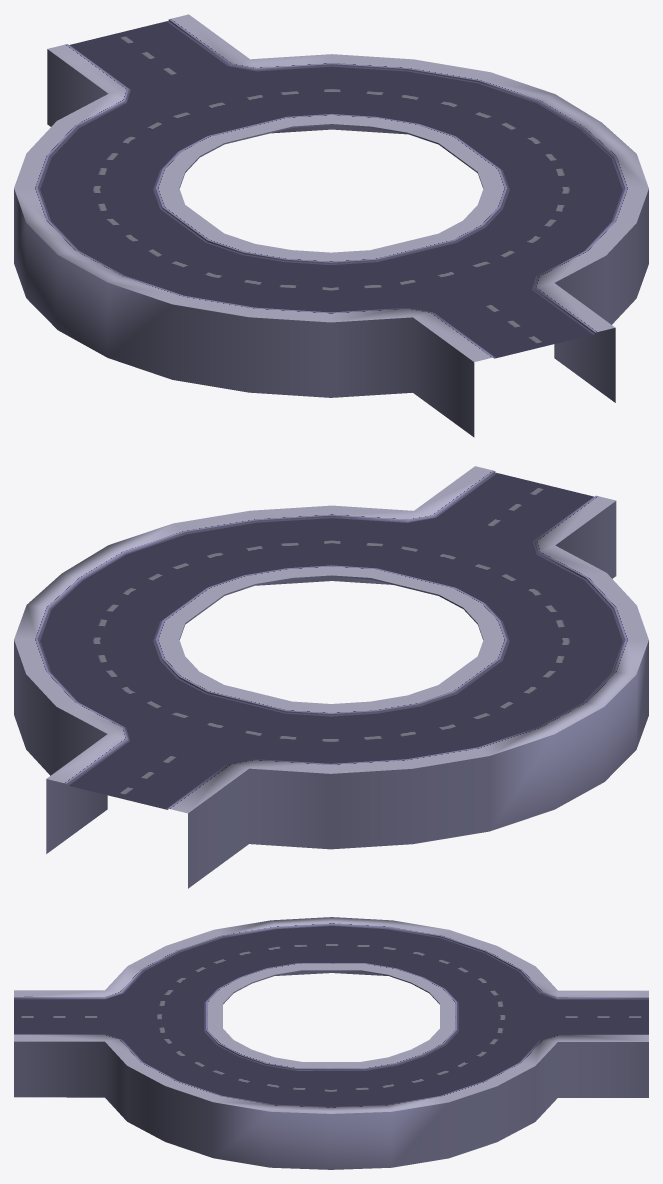
3 renders of one model, top to bottom at view 1: azimuth 30°, elevation 25°; view 2: azimuth 150°, elevation 25°; view 3: azimuth 270°, elevation 25°, orthographic. The views are drawn at different scales.
Parts seen in each view (by area): view 1: Circle_3; view 2: Circle_3; view 3: Circle_3.
Boxes of the visible parts, <box> form: Circle_3: <box>14,14,648,437</box>; Circle_3: <box>14,466,648,888</box>; Circle_3: <box>14,917,648,1169</box>.
Size of the model in its own units: 76.93 by 10.2 by 105.
Materials: 1 (1 with a texture image).
